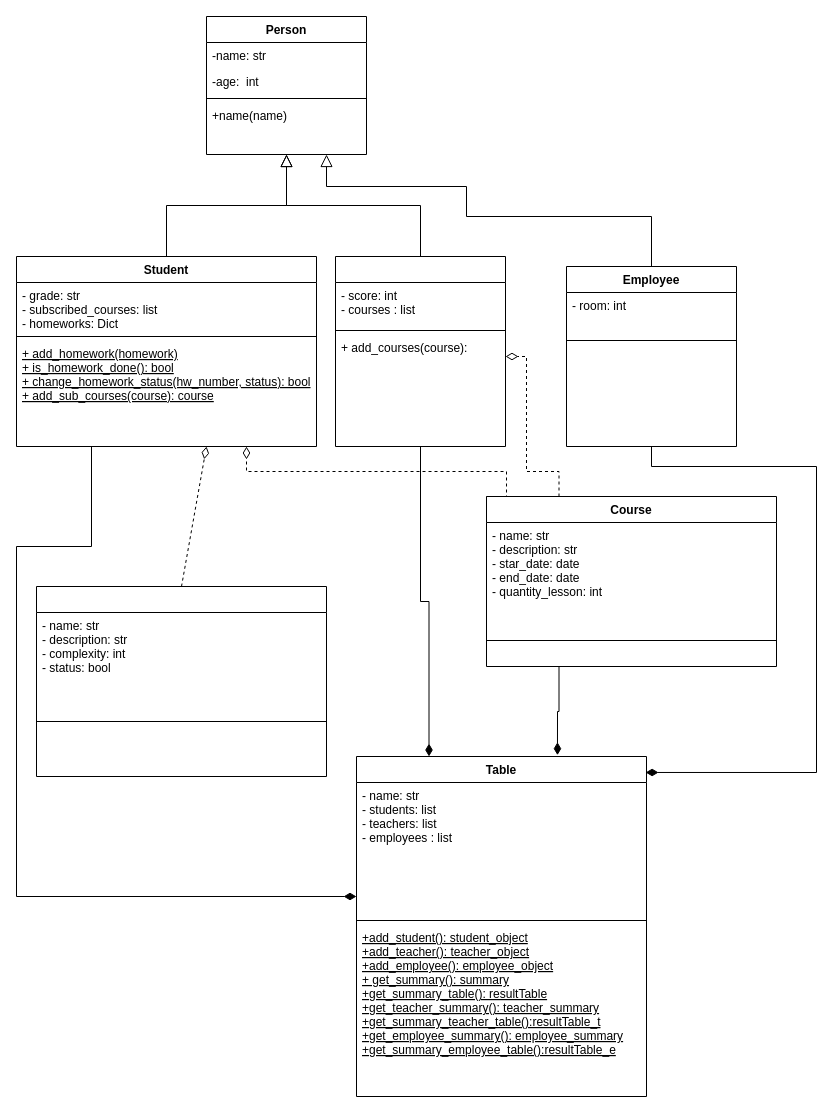
Some shapes in this 833 by 1113 pixel diagram are drawn without their labels. The shapes that lost their labels are listed below. From the top down, each one's box as (x1, y1, x2, y2) in pixels, then its label:
(334, 256, 506, 446): Teacher
(36, 586, 326, 776): Homework
